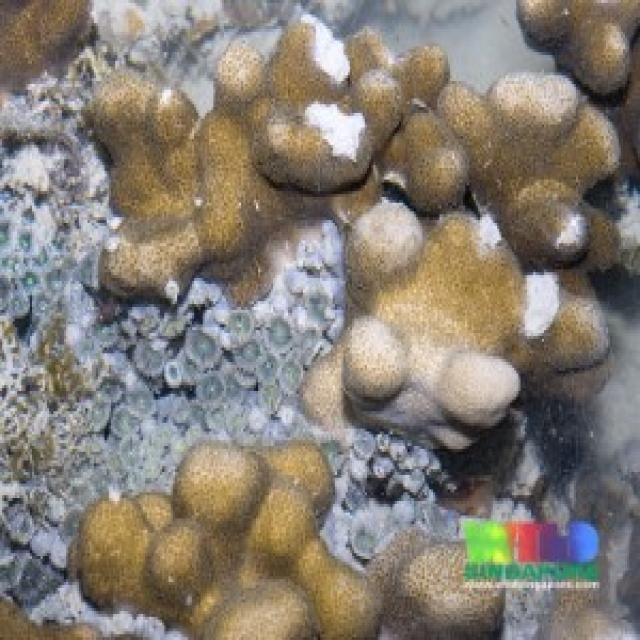Bleached: (4, 87, 92, 618), (96, 304, 308, 441)
Healthy: (94, 36, 640, 438), (76, 444, 383, 640)
